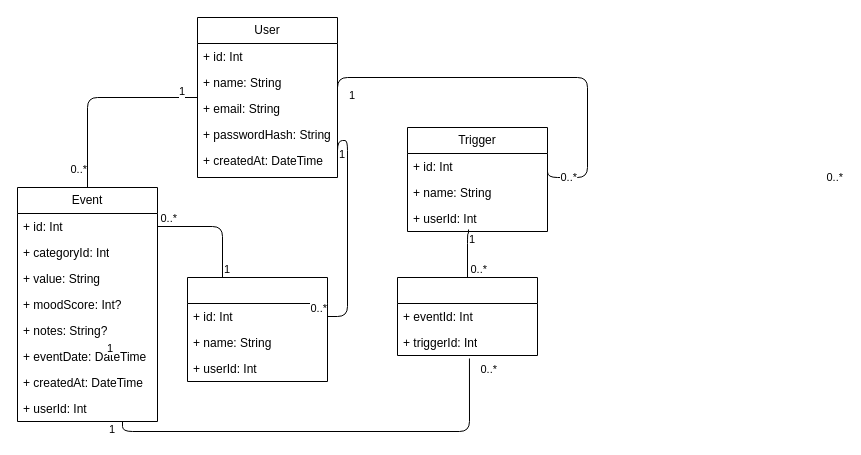
The diagram is 861 pixels wide and 455 high, and some of its shapes have lost their labels. Each missing label, with the box of its shape:
Category: (186, 276, 328, 382)
EventTrigger: (396, 276, 538, 356)
